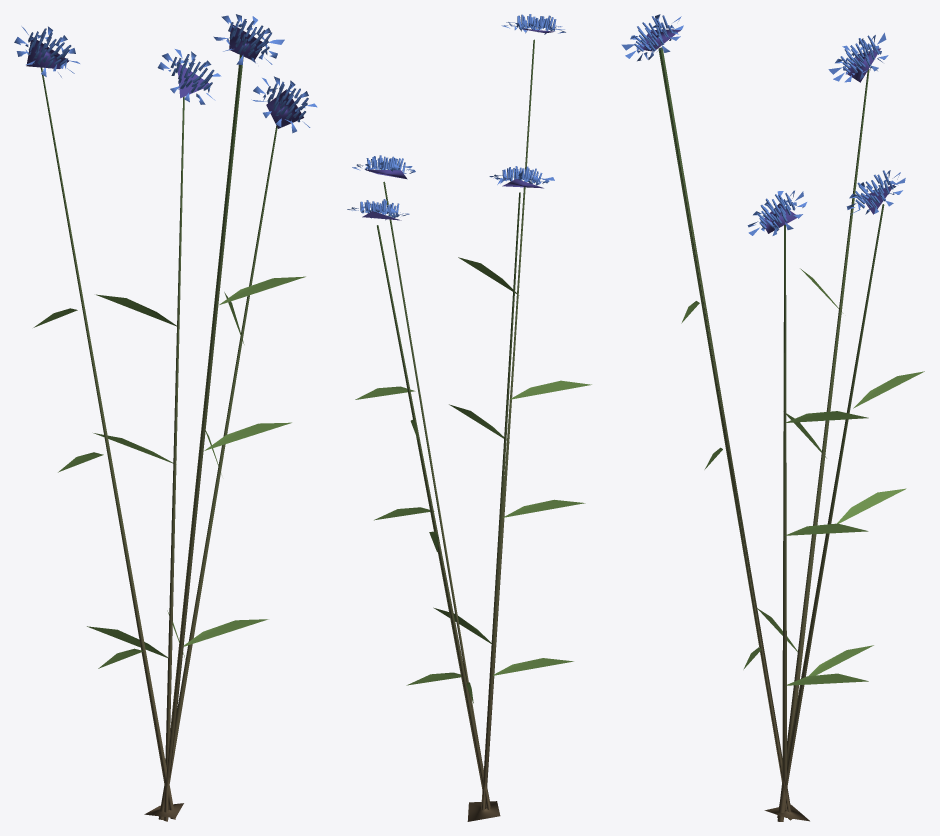
The model's file is Cornflower_lod2.glb.
3 renders of one model, left to right at view 1: azimuth 30°, elevation 25°; view 2: azimuth 150°, elevation 25°; view 3: azimuth 270°, elevation 25°, orthographic. The views are drawn at different scales.
Visible parts, largest first — view 1: Plant_LOD2; view 2: Plant_LOD2; view 3: Plant_LOD2.
Part boxes in pixels (x1,y1,x2,y2): Plant_LOD2: [14, 14, 317, 821]; Plant_LOD2: [347, 14, 591, 821]; Plant_LOD2: [621, 14, 924, 821].
Bounding box in the file's own units: 0.2201 × 0.653 × 0.2236.
